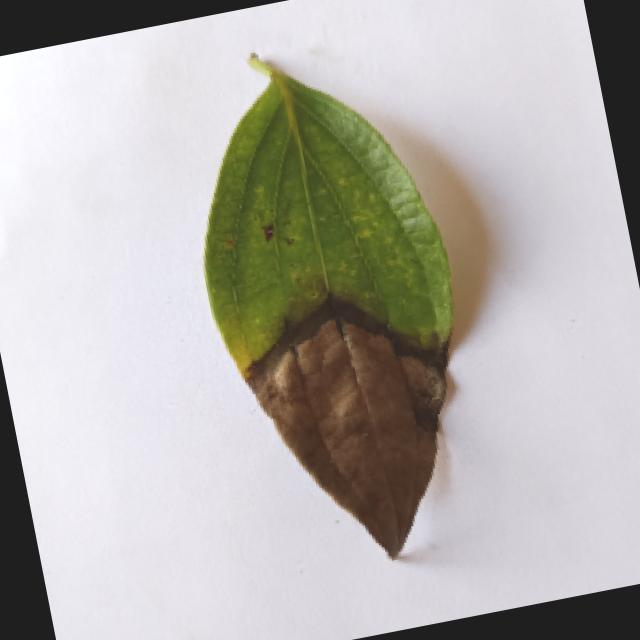footrot: (156, 17, 524, 584)
